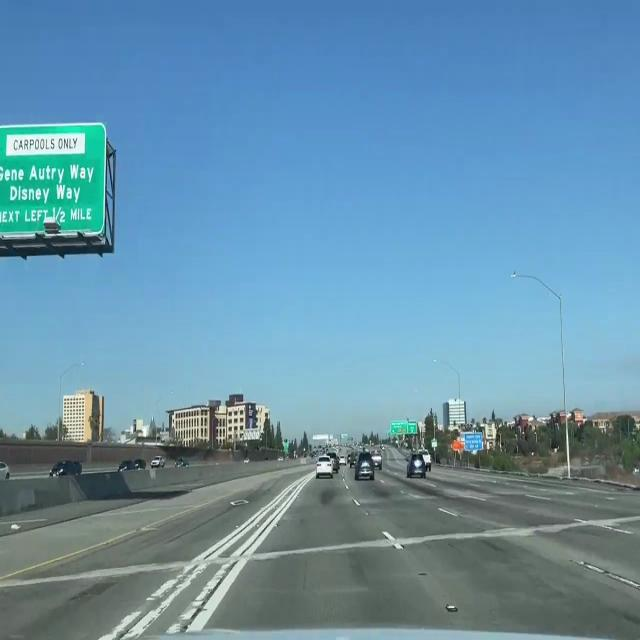street-signs: (0, 123, 106, 236), (390, 418, 408, 437), (408, 418, 418, 435), (284, 442, 288, 452)
